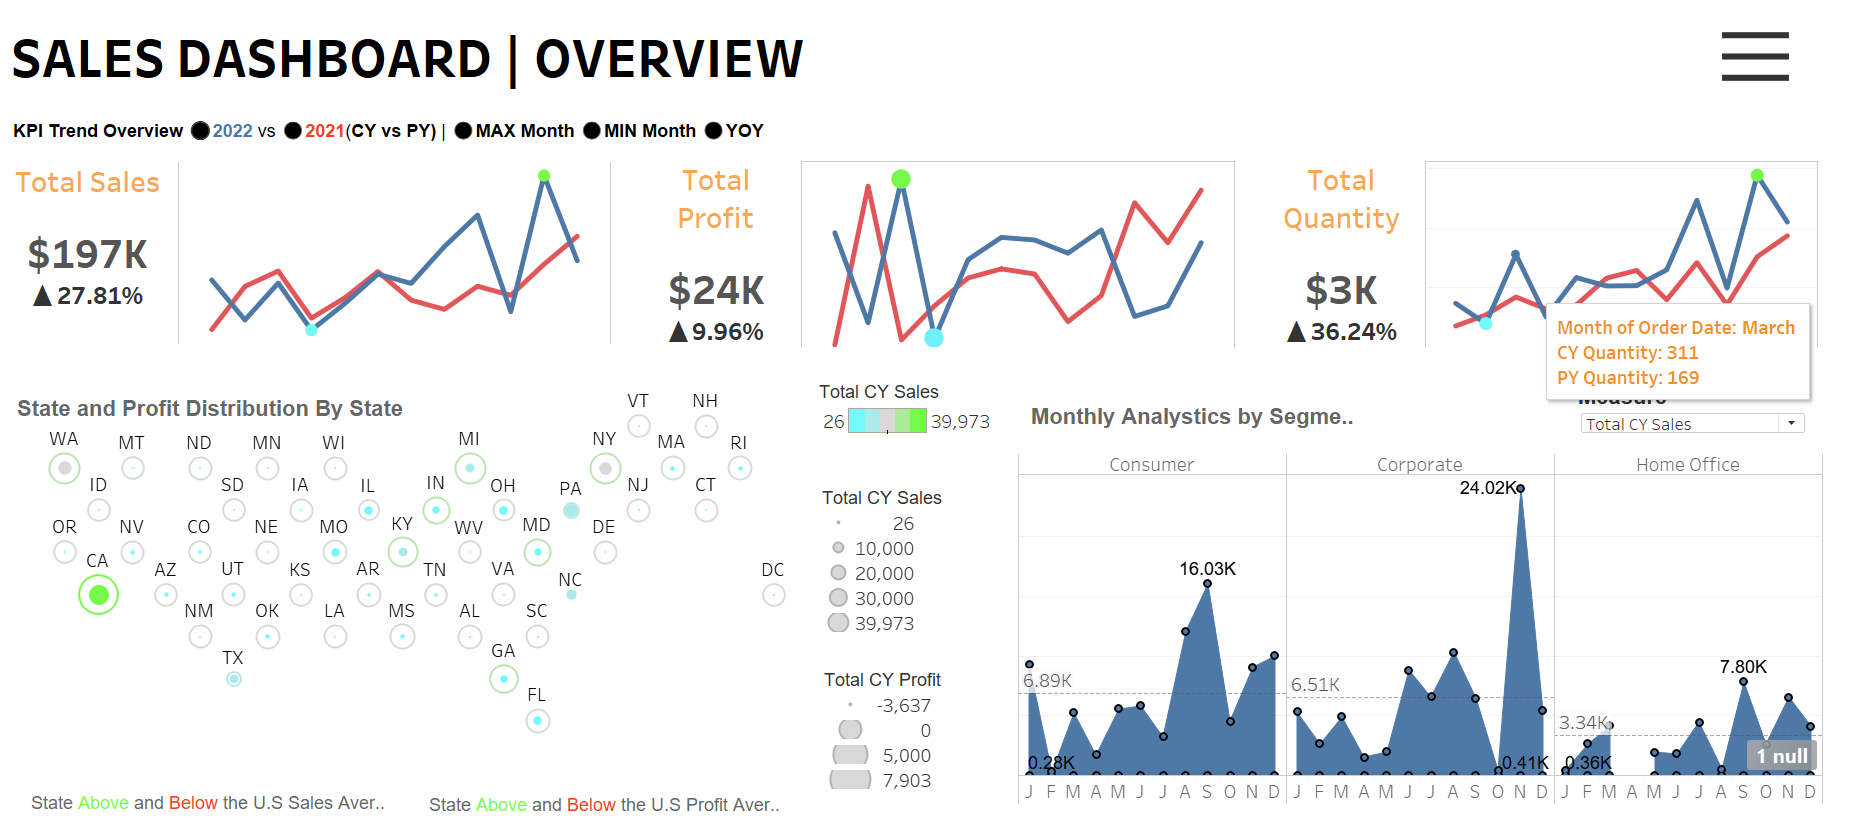

This screenshot's page, from the dashboard's own definition file:
{"tool":"tableau","page":{"name":"Sales Dashboard","canvas":[2104,1300],"ordinal":0},"visuals":[{"type":"image","param":"C:/Users/dell/OneDrive/Desktop/[DAta analysis projects/country sales Tableau/Sal","box":[8,8,2088,1284]},{"type":"text","box":[30.3,14.6,938.9,118.6]},{"type":"dashboard-object","box":[1589.8,39,73.6,73.1]},{"type":"filter","title":"State and Profit by US State","param":"[federated.0grhsh303bbuqe1b6jlx719k0j7t].[none:Category:nk]","box":[1437,77,187,85]},{"type":"text","box":[31.6,126.8,1663.5,48.8]},{"type":"filter","title":"State and Profit by US State","param":"[federated.0grhsh303bbuqe1b6jlx719k0j7t].[none:Region:nk]","box":[1437,162,187,85]},{"type":"worksheet","title":"Profit KPI ","mark":"Automatic","box":[604.9,175.5,161,195]},{"type":"worksheet","title":"Profit Sparkline","mark":"Automatic","rows":["MIN MAX Month (copy)_1020769029303332878"],"cols":["Order Date"],"box":[765.9,175.5,390,195]},{"type":"worksheet","title":"Quantity KPI","mark":"Automatic","box":[1176.9,175.5,158,195]},{"type":"worksheet","title":"Quantity Sparkline","mark":"Automatic","rows":["MIN MAX Month (Profit) (copy)_1020769029304754191"],"cols":["Order Date"],"box":[1334.9,175.5,352.2,195]},{"type":"worksheet","title":"SALES KPI","mark":"Automatic","box":[27.6,177.1,164,190.1]},{"type":"worksheet","title":"Sales Sparkline","mark":"Automatic","rows":["Calculation_1020769029269192717"],"cols":["Order Date"],"box":[191.6,177.1,393.6,190.1]},{"type":"filter","title":"State and Profit by US State","param":"[federated.0grhsh303bbuqe1b6jlx719k0j7t].[none:Ship Mode:nk]","box":[1437,247,187,85]},{"type":"legend","title":"State and Profit by US State","param":"[federated.0grhsh303bbuqe1b6jlx719k0j7t].[sum:Calculation_1020769029257633792:qk","box":[771.9,401.4,160.4,123.5]},{"type":"text","box":[35.5,403,401.1,48.8]},{"type":"worksheet","title":"State and Profit by US State","mark":"Circle","rows":["Row"],"cols":["Column","Column"],"box":[36.5,403,737.1,379]},{"type":"parameter","param":"[Parameters].[Parameter 1]","box":[1464.9,403,210.4,71.5]},{"type":"text","box":[961.3,411.1,303.8,48.8]},{"type":"worksheet","title":"Monthly Analystics by Segment ","mark":"Area","rows":["Calculation_1190428071576080384"],"cols":["Segment","Order Date"],"box":[953.4,472.9,735.1,351]},{"type":"legend","title":"State and Profit by US State","param":"[federated.0grhsh303bbuqe1b6jlx719k0j7t].[sum:Calculation_1020769029257633792:qk","box":[774.5,507,160.4,159.2]},{"type":"legend","title":"State and Profit by US State","param":"[federated.0grhsh303bbuqe1b6jlx719k0j7t].[sum:Total CY Sales (copy)_102076902926","box":[775.9,689,157.8,149.5]},{"type":"text","box":[48.6,798,334.8,49]},{"type":"text","box":[412.2,800,332.6,48]},{"type":"text","box":[954.7,845,214.4,91]},{"type":"worksheet","title":"Region Wise Sales","mark":"Circle","cols":["Region (People)"],"box":[1148,848.2,536.5,87.8]},{"type":"worksheet","title":"Average Profit State Wise ","mark":"Circle","rows":["Row"],"cols":["Column"],"box":[410,854,352.5,273]},{"type":"worksheet","title":"Average Sales State Wise","mark":"Circle","rows":["Row"],"cols":["Column"],"box":[30.9,855,353.6,271]},{"type":"worksheet","title":"Average Profit BY State Count","mark":"Circle","rows":["SALES AVERAGE COMPARE (copy)_1020769029344542741"],"box":[737.1,931,137,107]},{"type":"worksheet","title":"Total Sales by Location and Manager","mark":"Automatic","rows":["Country/Region","Regional Manager"],"cols":["Calculation_1020769029257633792"],"box":[954.7,939.2,729.8,238.9]},{"type":"worksheet","title":"Average Sales BY State Count","mark":"Circle","rows":["Calculation_1020769029343023122"],"box":[349.2,952,84,91]}]}

Visuals, with their boxes on the page's 2104x1300 design canvas (x1, y1, x2, y2). These are canvas units, not pixel positions in the 1858x820 screenshot, which may show the page scaled, cropped or inside an application window:
image: BBox(8, 8, 2096, 1292)
text: BBox(30, 15, 969, 133)
dashboard-object: BBox(1590, 39, 1663, 112)
"State and Profit by US State" filter: BBox(1437, 77, 1624, 162)
text: BBox(32, 127, 1695, 176)
"State and Profit by US State" filter: BBox(1437, 162, 1624, 247)
"Profit KPI " worksheet: BBox(605, 176, 766, 370)
"Profit Sparkline" worksheet: BBox(766, 176, 1156, 370)
"Quantity KPI" worksheet: BBox(1177, 176, 1335, 370)
"Quantity Sparkline" worksheet: BBox(1335, 176, 1687, 370)
"SALES KPI" worksheet: BBox(28, 177, 192, 367)
"Sales Sparkline" worksheet: BBox(192, 177, 585, 367)
"State and Profit by US State" filter: BBox(1437, 247, 1624, 332)
"State and Profit by US State" legend: BBox(772, 401, 932, 525)
text: BBox(36, 403, 437, 452)
"State and Profit by US State" worksheet (Circle marks): BBox(36, 403, 774, 782)
parameter: BBox(1465, 403, 1675, 474)
text: BBox(961, 411, 1265, 460)
"Monthly Analystics by Segment " worksheet (Area marks): BBox(953, 473, 1688, 824)
"State and Profit by US State" legend: BBox(774, 507, 935, 666)
"State and Profit by US State" legend: BBox(776, 689, 934, 838)
text: BBox(49, 798, 383, 847)
text: BBox(412, 800, 745, 848)
text: BBox(955, 845, 1169, 936)
"Region Wise Sales" worksheet (Circle marks): BBox(1148, 848, 1684, 936)
"Average Profit State Wise " worksheet (Circle marks): BBox(410, 854, 762, 1127)
"Average Sales State Wise" worksheet (Circle marks): BBox(31, 855, 384, 1126)
"Average Profit BY State Count" worksheet (Circle marks): BBox(737, 931, 874, 1038)
"Total Sales by Location and Manager" worksheet: BBox(955, 939, 1684, 1178)
"Average Sales BY State Count" worksheet (Circle marks): BBox(349, 952, 433, 1043)
